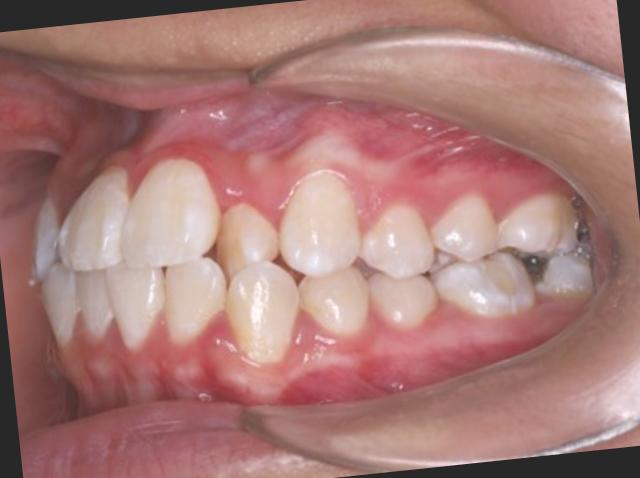canine class III 1/4: (211, 161, 378, 370)
molar class III full class: (426, 190, 591, 335)
